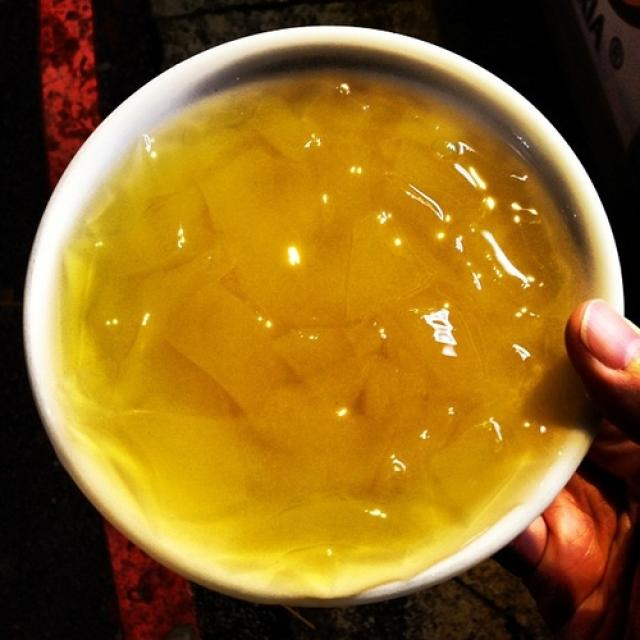蛋糕甜品: (41, 37, 594, 581)
